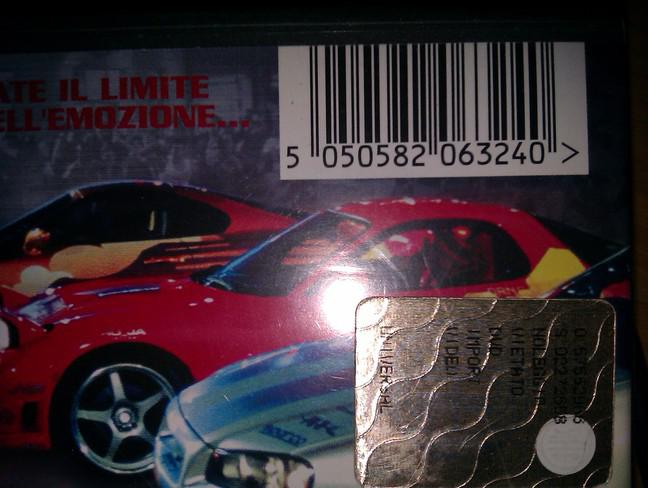Barkod: (278, 42, 587, 178)
